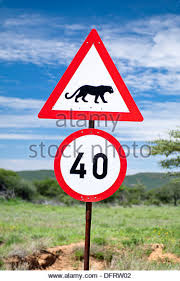Speed_limit_40km: (53, 129, 128, 205)
